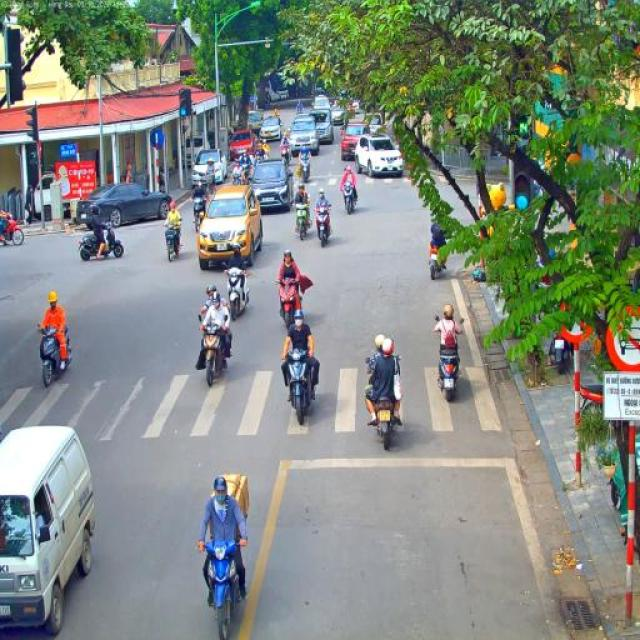car: (196, 183, 263, 271), (82, 183, 172, 228), (246, 159, 294, 212), (355, 134, 404, 178), (288, 114, 320, 156), (193, 148, 228, 184), (341, 122, 372, 162), (308, 109, 334, 145), (229, 131, 255, 163), (260, 116, 284, 142), (362, 113, 383, 136), (246, 110, 264, 135), (330, 104, 346, 126), (313, 95, 332, 113)
motorcycle: (196, 539, 244, 640), (363, 354, 403, 450), (280, 346, 316, 425), (434, 316, 466, 402), (38, 322, 72, 388), (198, 317, 230, 387), (78, 219, 124, 261), (222, 261, 250, 321), (278, 276, 302, 330), (548, 328, 572, 376), (312, 202, 332, 248), (0, 212, 25, 246), (292, 202, 313, 240), (581, 378, 603, 413), (163, 222, 182, 262), (430, 240, 448, 280), (191, 196, 208, 232), (342, 180, 356, 216), (299, 155, 311, 184), (239, 162, 253, 184), (279, 144, 291, 164), (230, 174, 244, 186), (255, 153, 264, 166)
truck: (0, 424, 95, 636), (183, 133, 214, 166)
